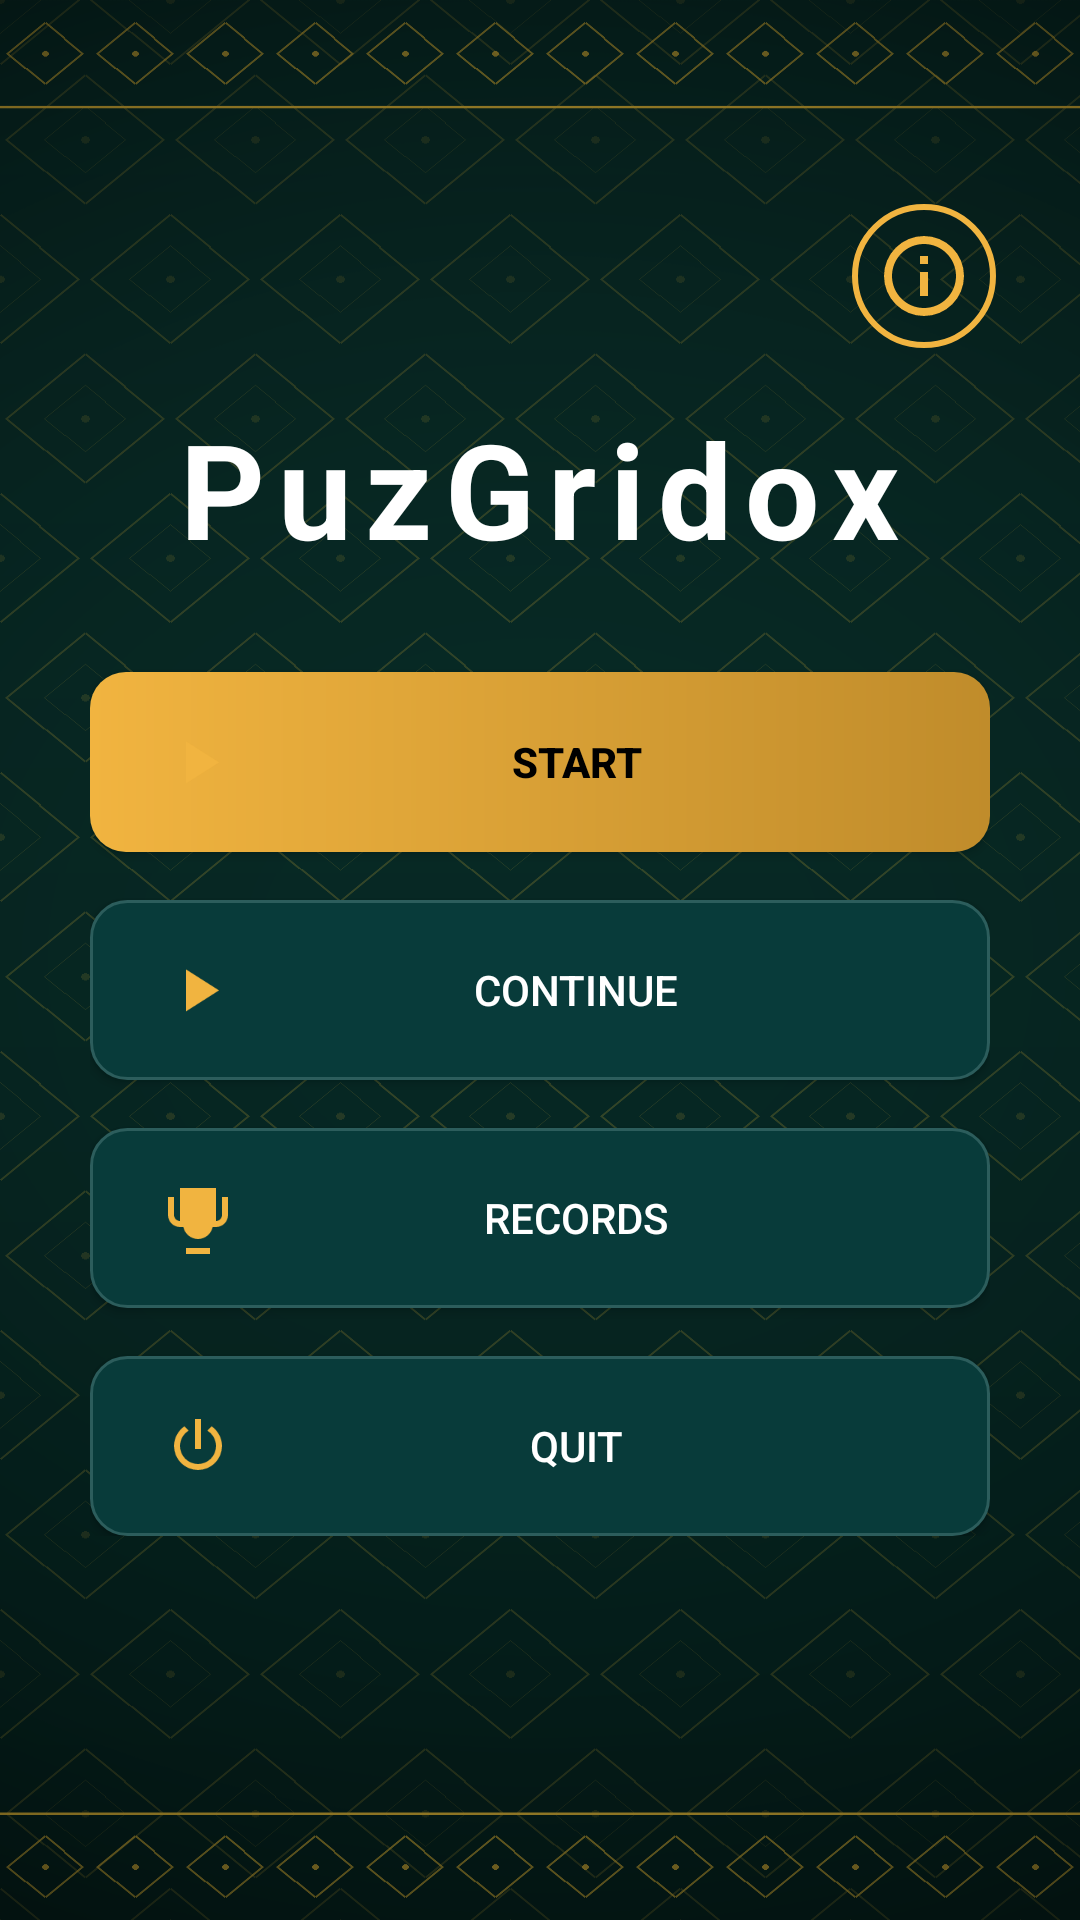

Where icons sit on this 1080px x 1920px app screen, as (x1, y1, x2, y2):
Info: (852, 204, 996, 348)
